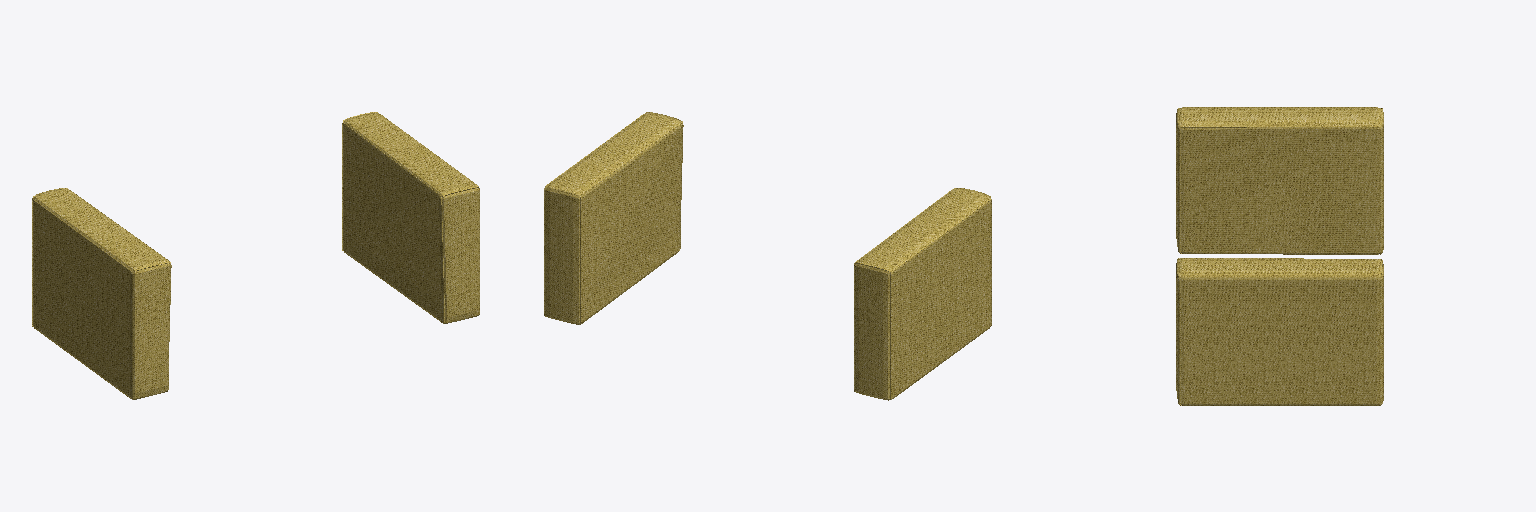
The picture shows the model from 3 angles: view 1: azimuth 30°, elevation 25°; view 2: azimuth 150°, elevation 25°; view 3: azimuth 270°, elevation 25°; orthographic projection.
Visible parts, largest first — view 1: Box854; view 2: Box854; view 3: Box854.
Part boxes in pixels (x1,y1,x2,y2): Box854: (32,112,479,399); Box854: (544,112,991,400); Box854: (1176,107,1383,405).
Bounding box in the file's own units: 161 × 58.49 × 83.17.
Materials: 1 (1 with a texture image).